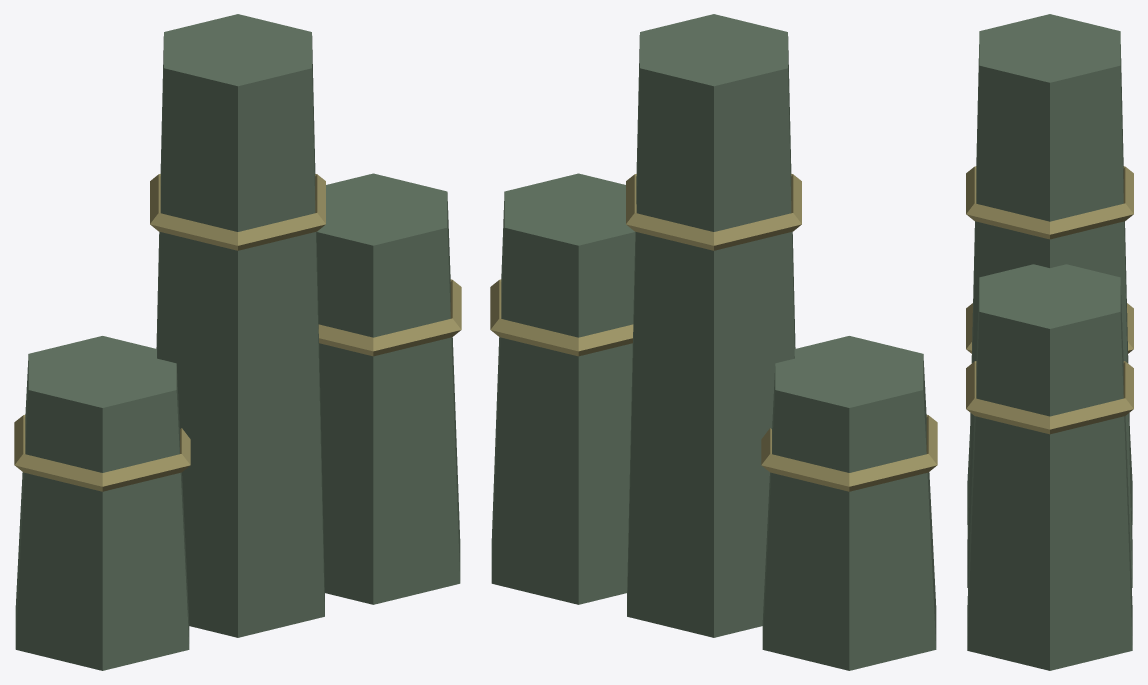
File: map-boundaries-v5__ruins_02.glb
3 renders of one model, left to right at view 1: azimuth 30°, elevation 25°; view 2: azimuth 150°, elevation 25°; view 3: azimuth 270°, elevation 25°, orthographic. The views are drawn at different scales.
Parts seen in each view (by area): view 1: ruins_02; view 2: ruins_02; view 3: ruins_02.
Boxes of the visible parts, <box> form: ruins_02: <box>14,14,461,670</box>; ruins_02: <box>490,14,937,670</box>; ruins_02: <box>966,14,1133,670</box>.
Bounding box in the file's own units: 1.75 × 2.04 × 0.5976.
